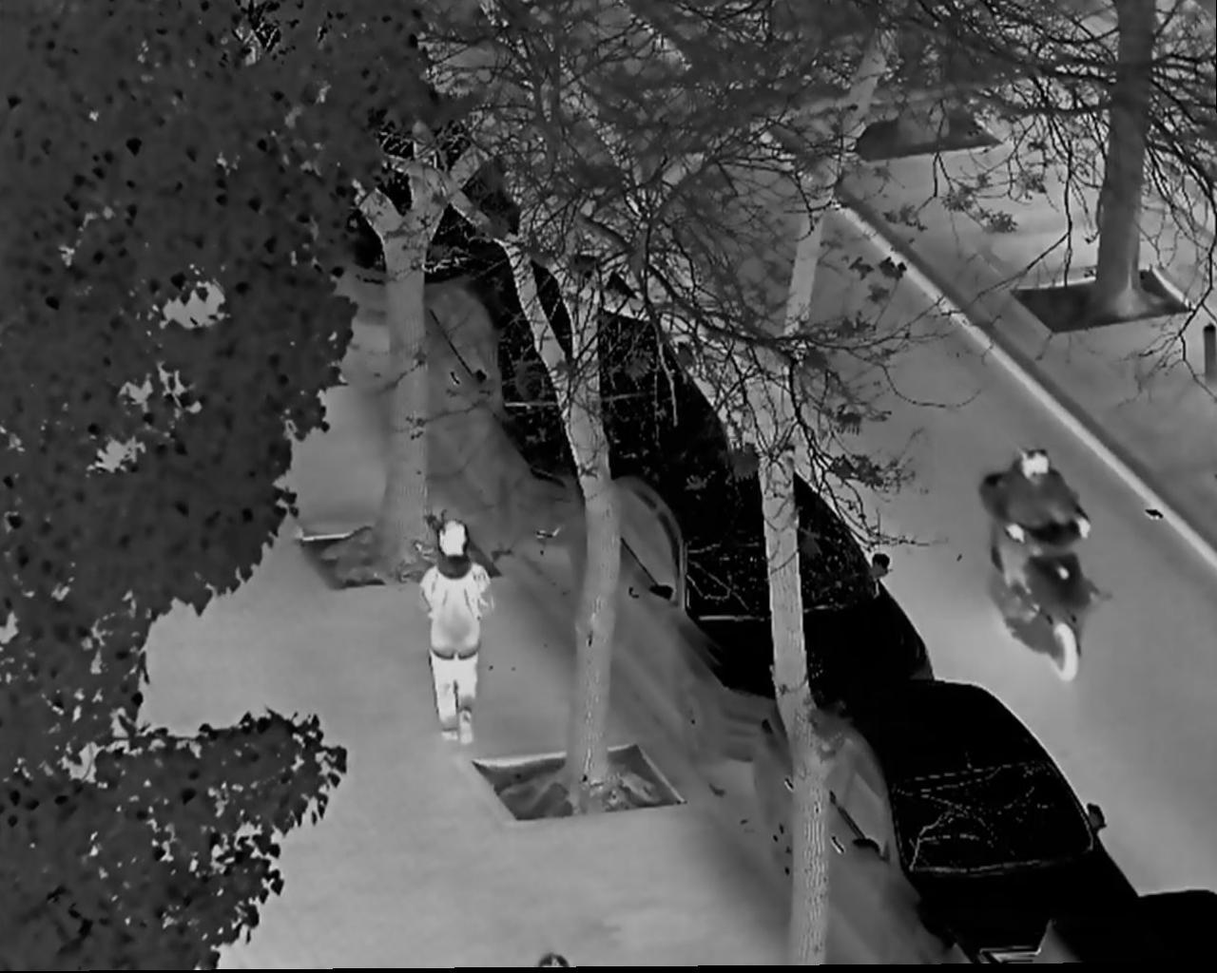person: (991, 446, 1096, 624), (420, 520, 497, 747)
